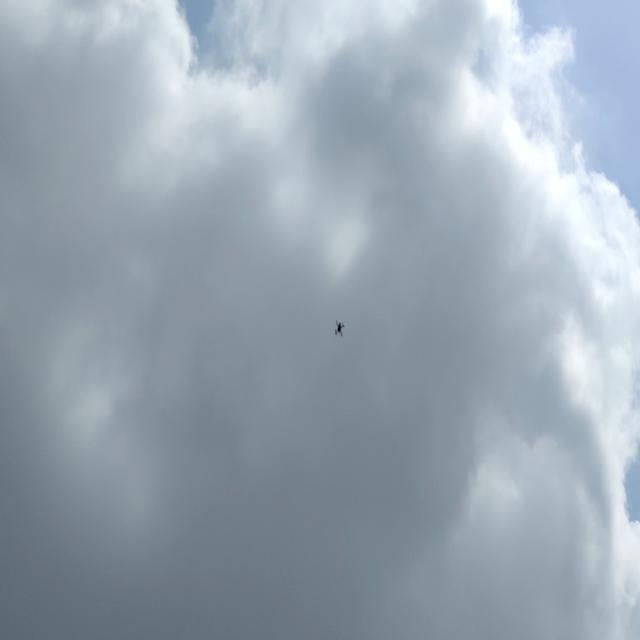drone: (331, 317, 347, 342)
